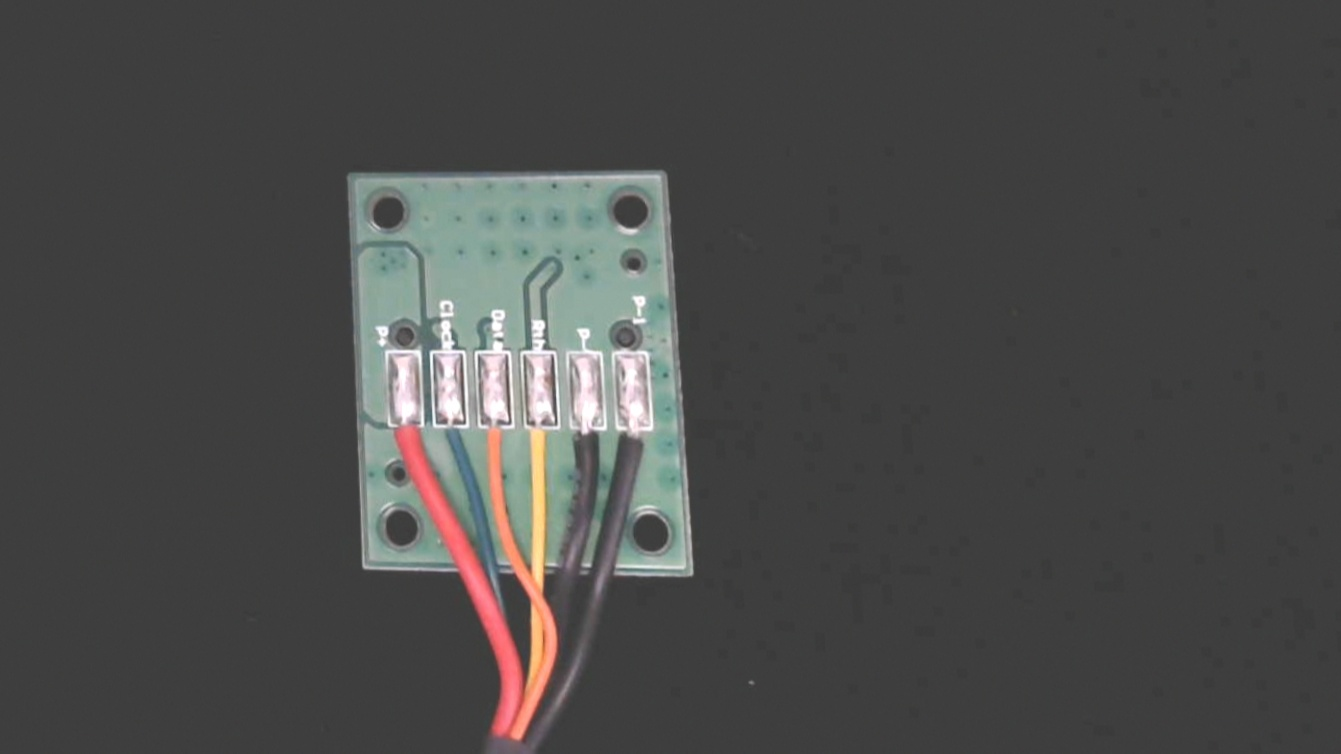Black: (565, 410, 610, 500)
Black1: (614, 409, 658, 493)
Green: (433, 403, 477, 489)
Orange: (479, 405, 521, 494)
Red: (385, 408, 429, 494)
Yellow: (522, 406, 567, 498)
